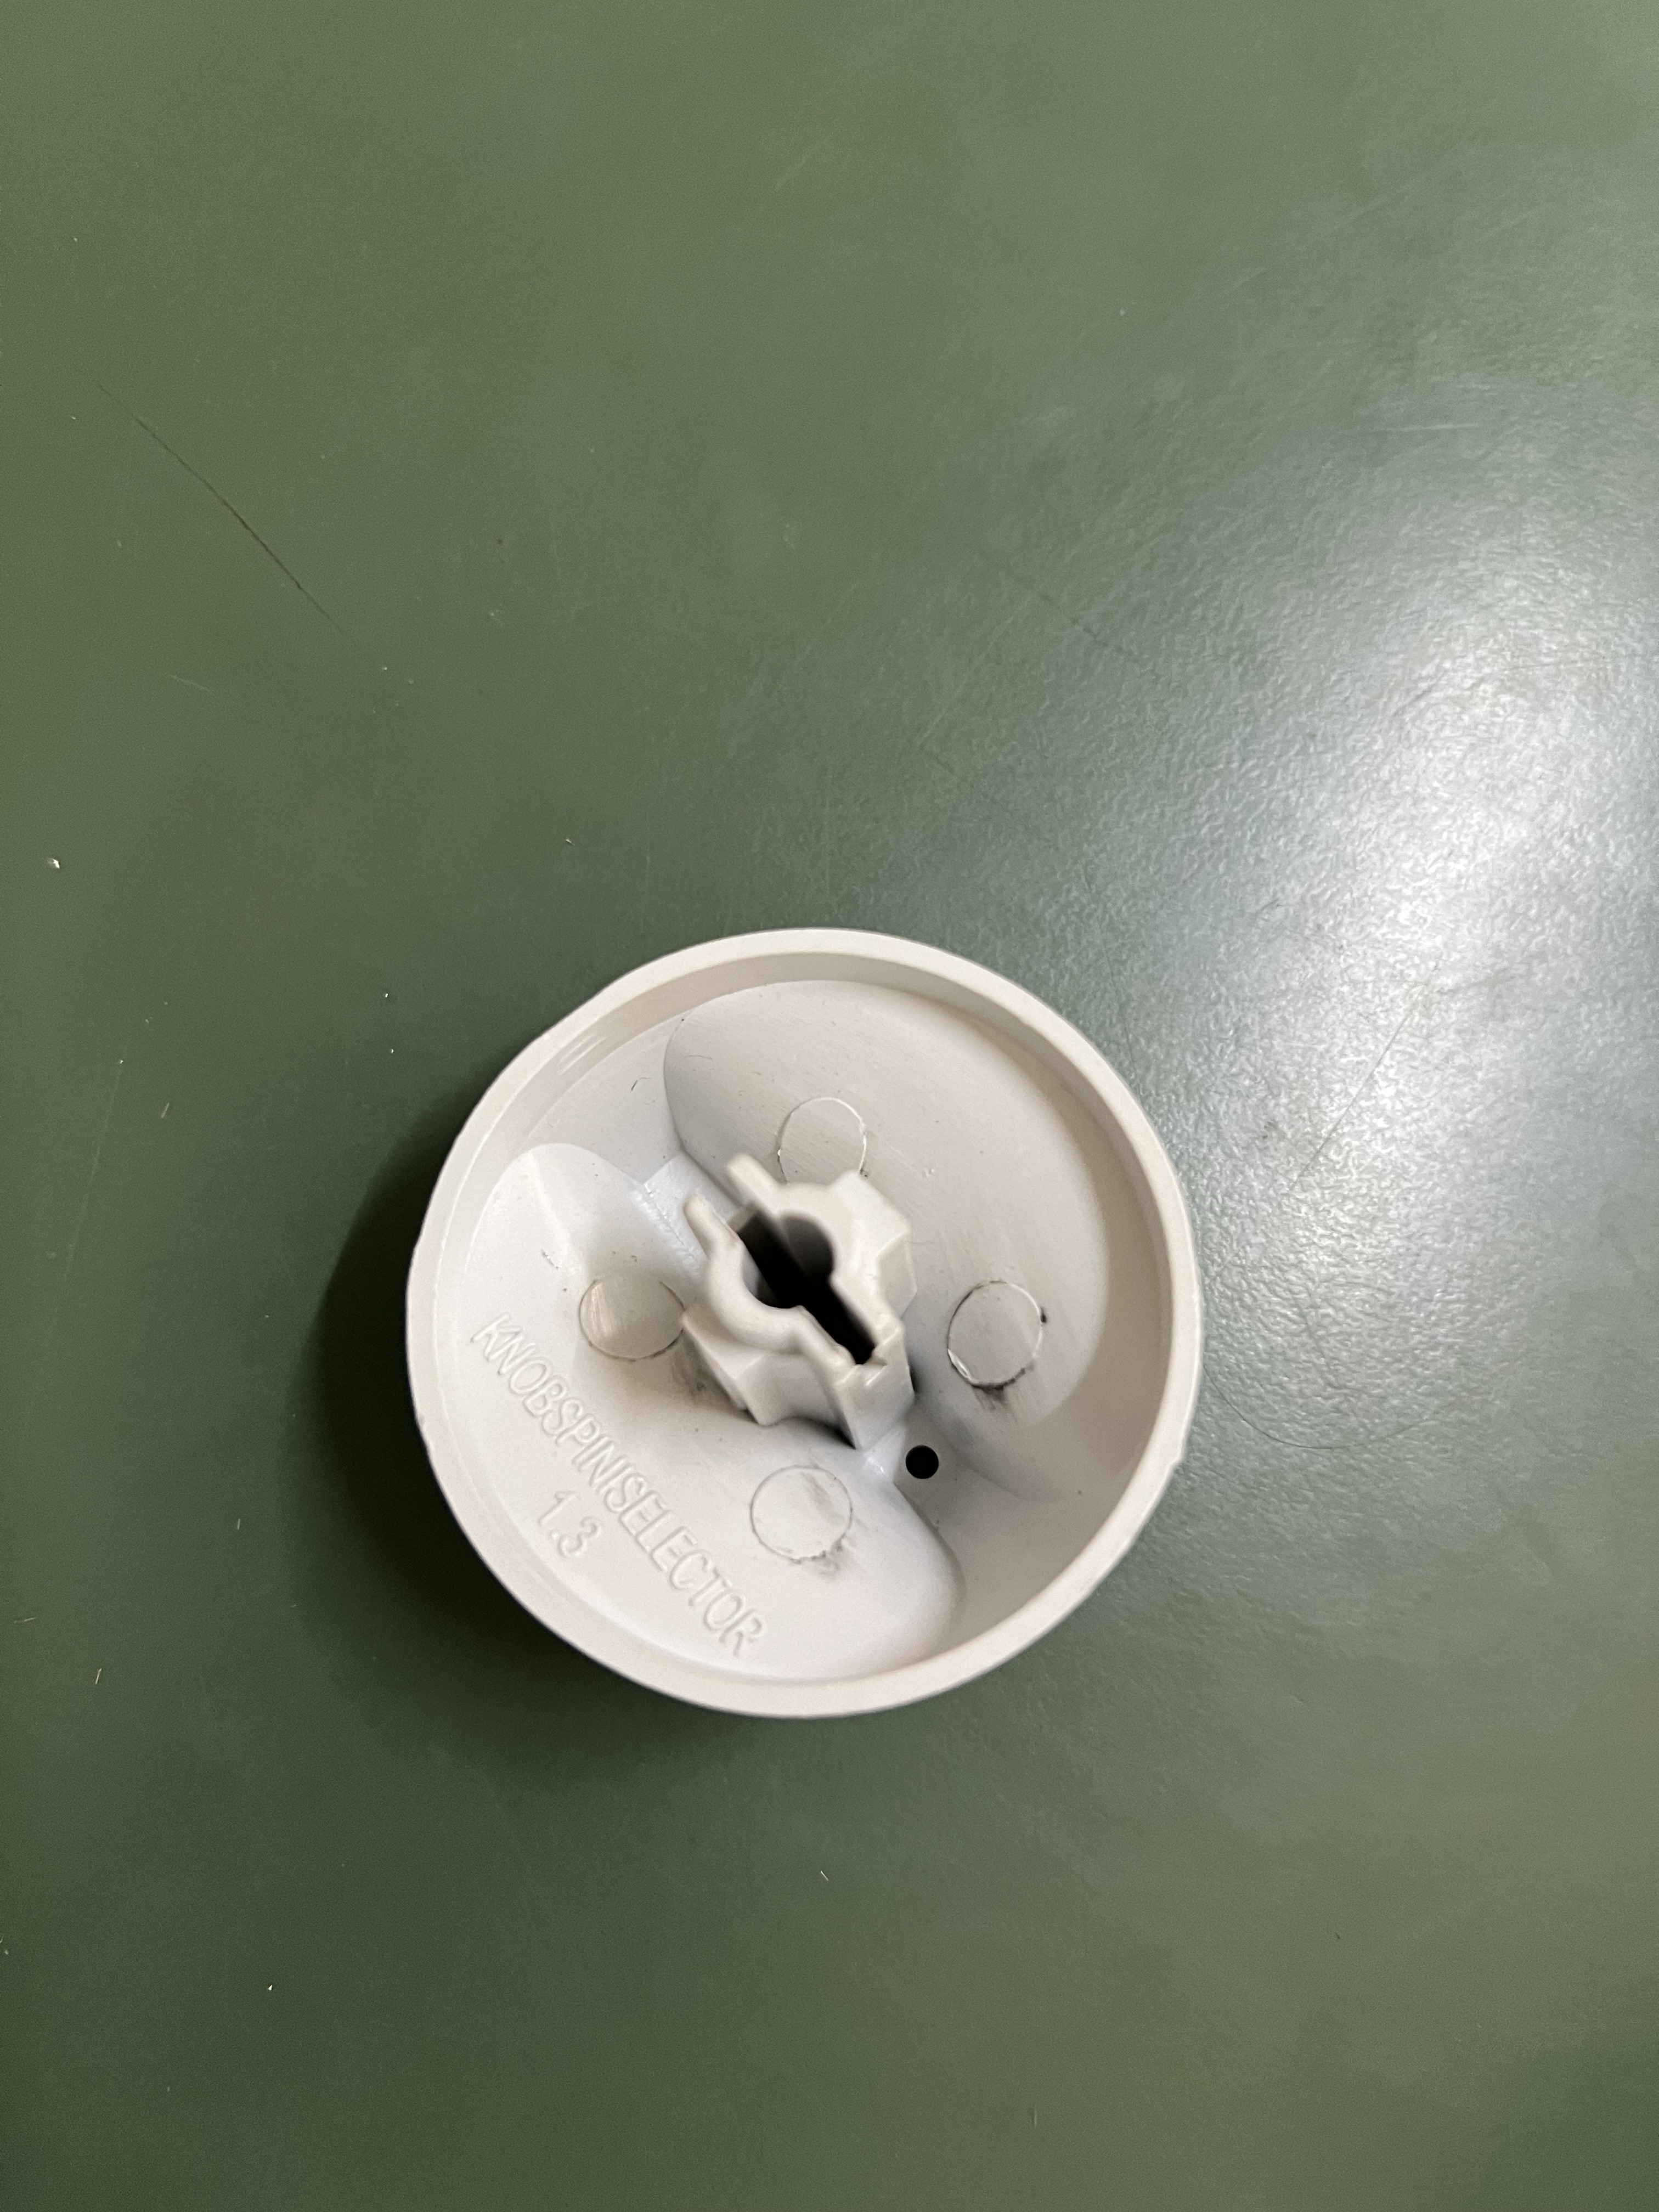regulator: (383, 900, 1206, 1743)
